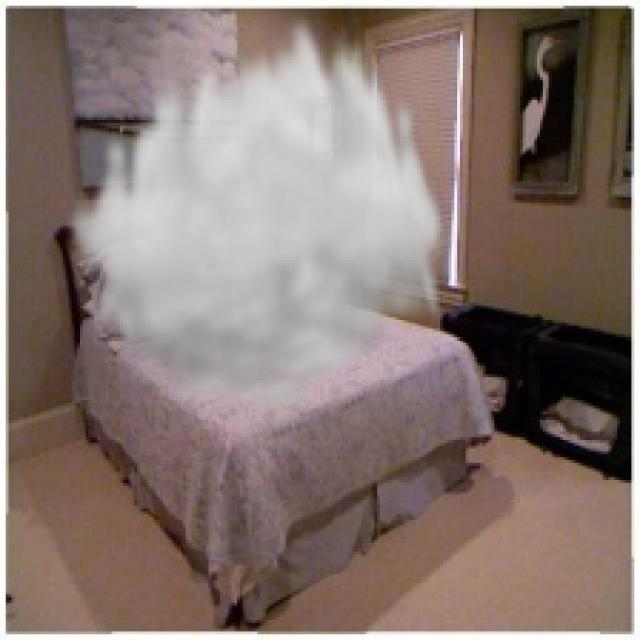Smoke: (62, 3, 448, 420)
